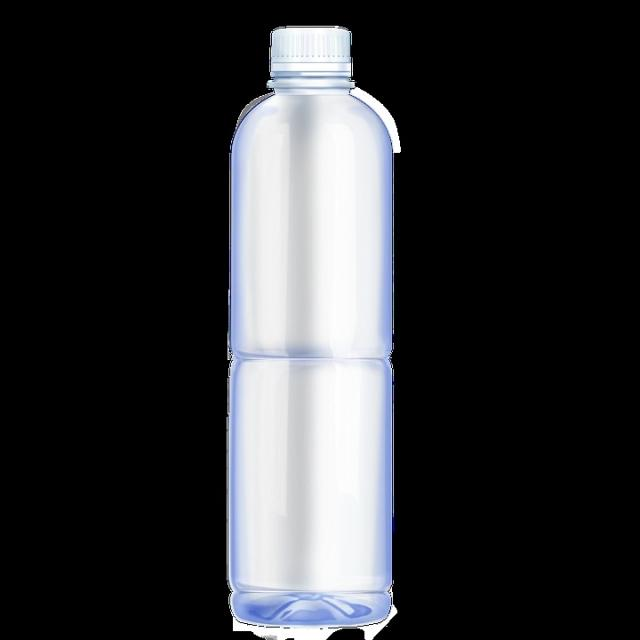plastic_bottle: (227, 25, 400, 635)
